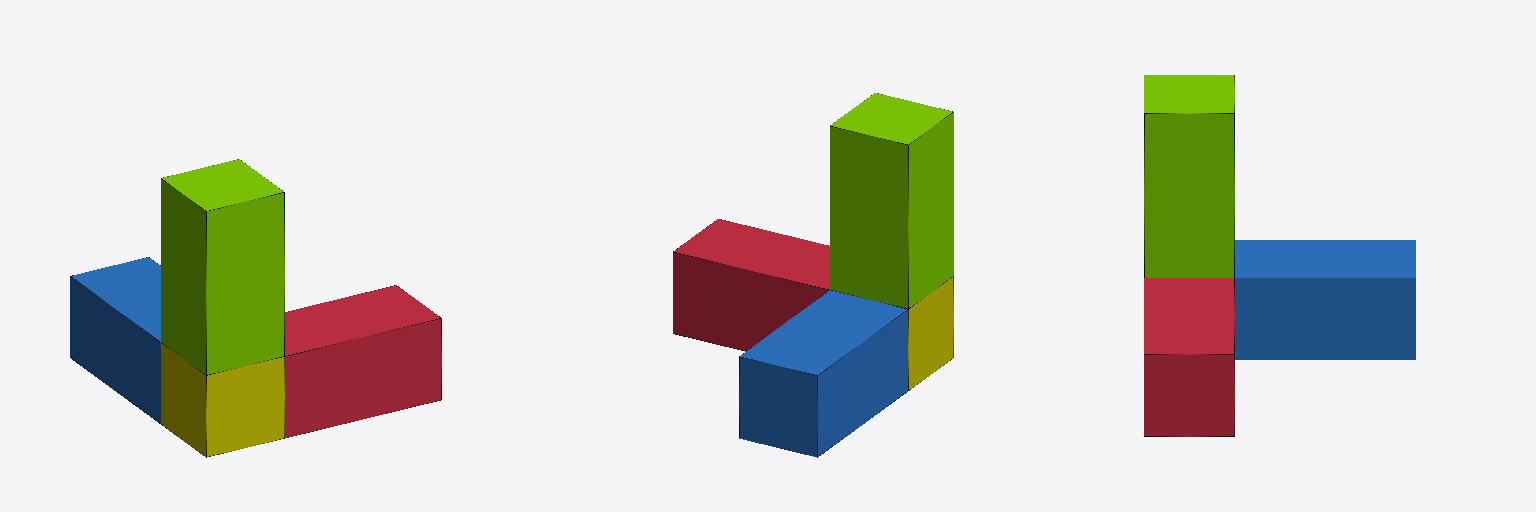
The picture shows the model from 3 angles: view 1: azimuth 30°, elevation 25°; view 2: azimuth 150°, elevation 25°; view 3: azimuth 270°, elevation 25°; orthographic projection.
Visible parts, largest first — view 1: 立方体; view 2: 立方体; view 3: 立方体.
Part boxes in pixels (x1,y1,x2,y2): 立方体: (70, 159, 441, 457); 立方体: (673, 93, 953, 457); 立方体: (1144, 75, 1415, 436).
Size of the model in its own units: 6 by 6 by 6.
1 materials, 1 textured.